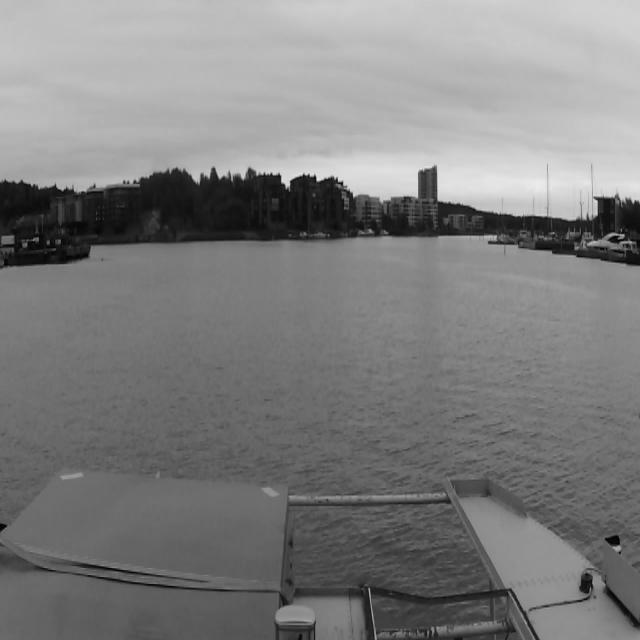ship: (540, 164, 558, 240), (488, 197, 514, 247), (586, 235, 636, 254), (300, 231, 308, 240), (366, 230, 374, 238), (380, 230, 389, 237)
